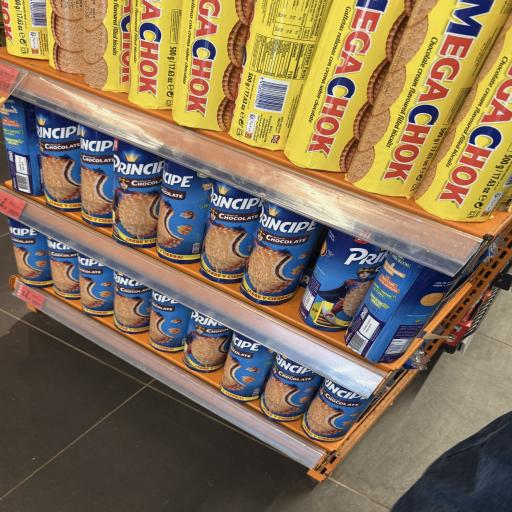prince: (306, 350, 410, 480)
